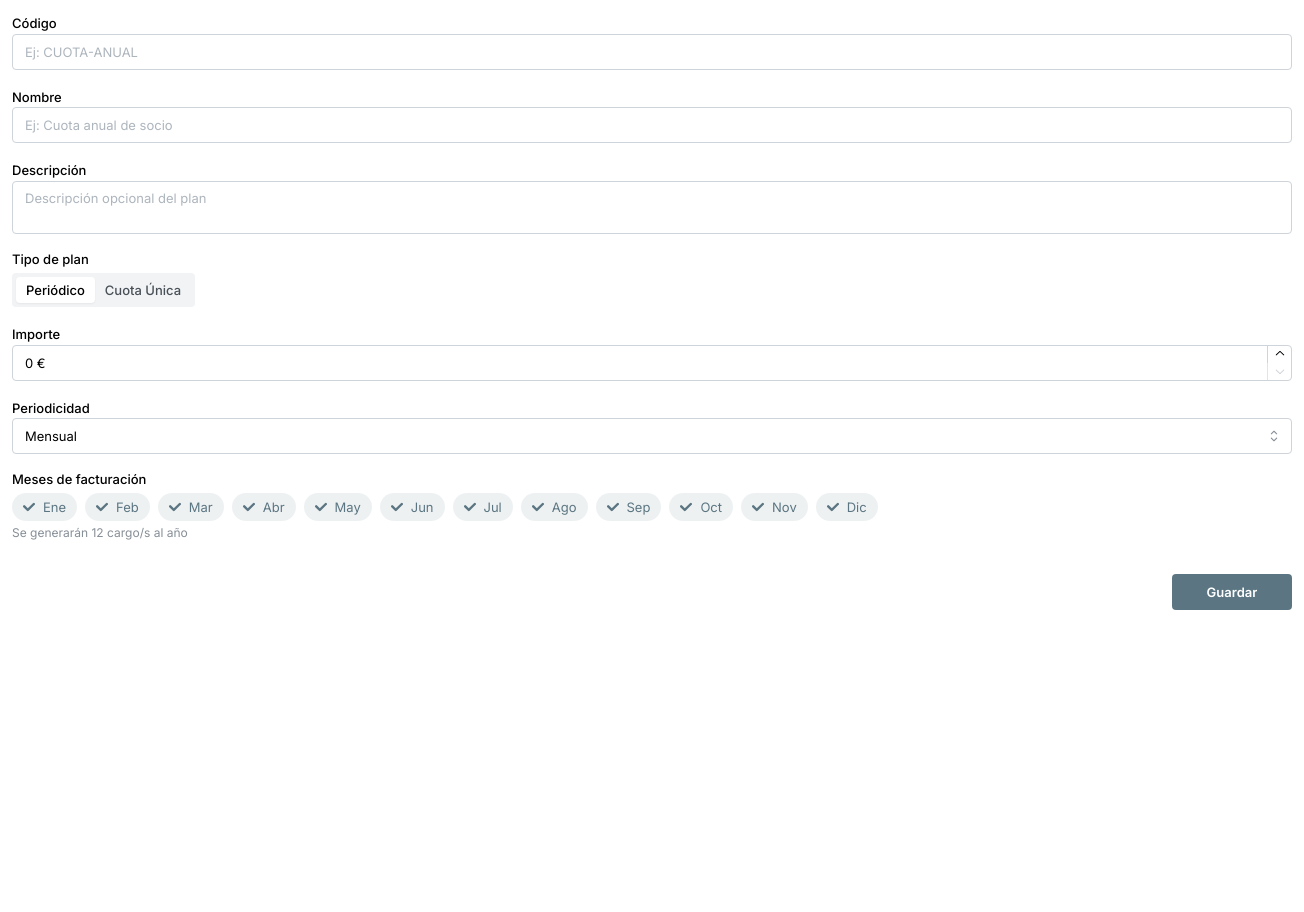
Test: FeePlanForm › validacion de formulario › deberia mostrar error de validacion cuando el importe es 0
In the field with placeholder "Ej: CUOTA-ANUAL": (652, 52) [12, 34, 1292, 70], type "TEST"
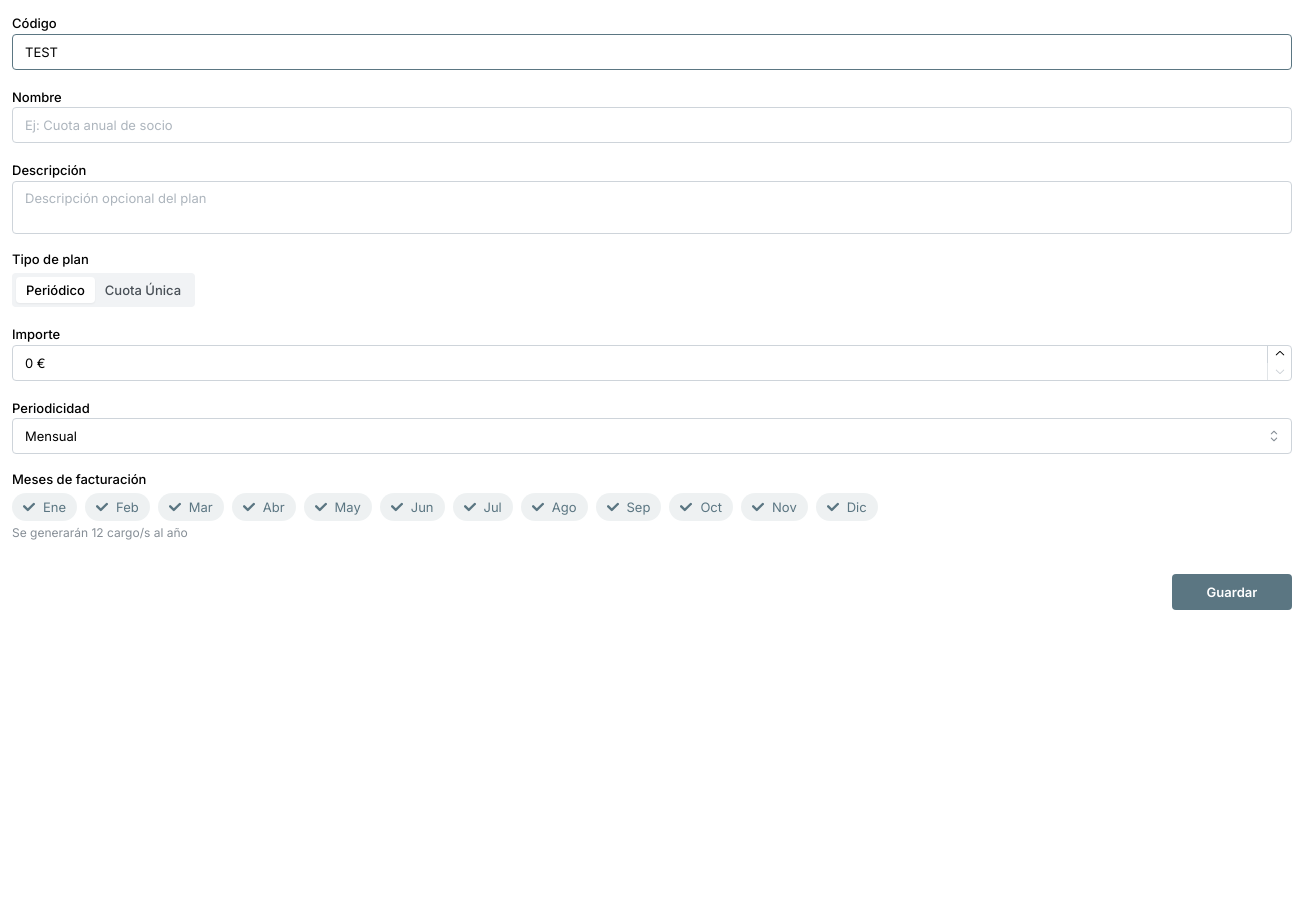
In the field with placeholder "Ej: Cuota anual de socio": (652, 125) [12, 107, 1292, 143], type "Plan"
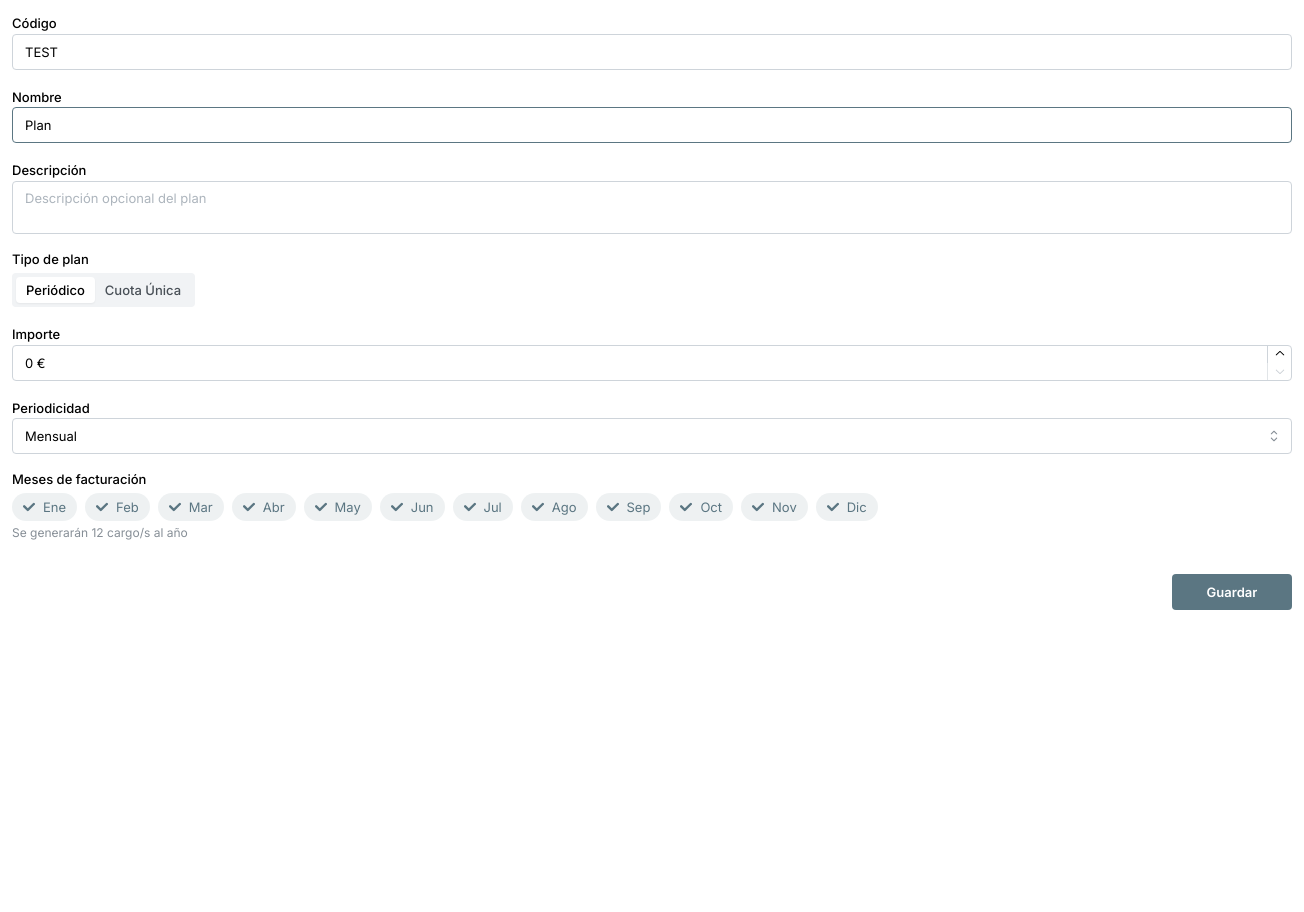
Click the button "Guardar": (1232, 592) [1172, 574, 1292, 610]
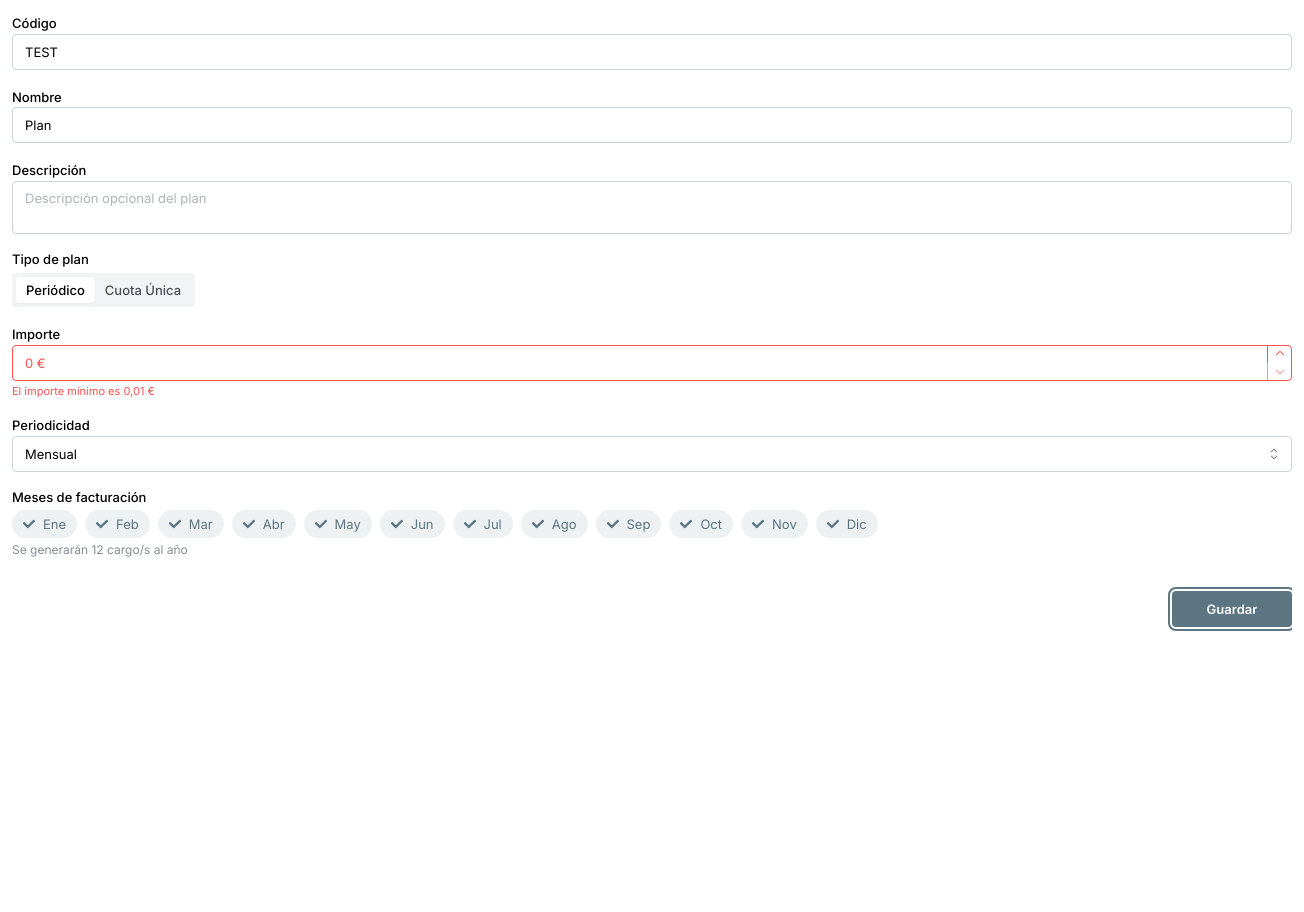
Expected: the text "El importe mínimo es 0,01 €" is shown, [12, 384, 155, 398]
